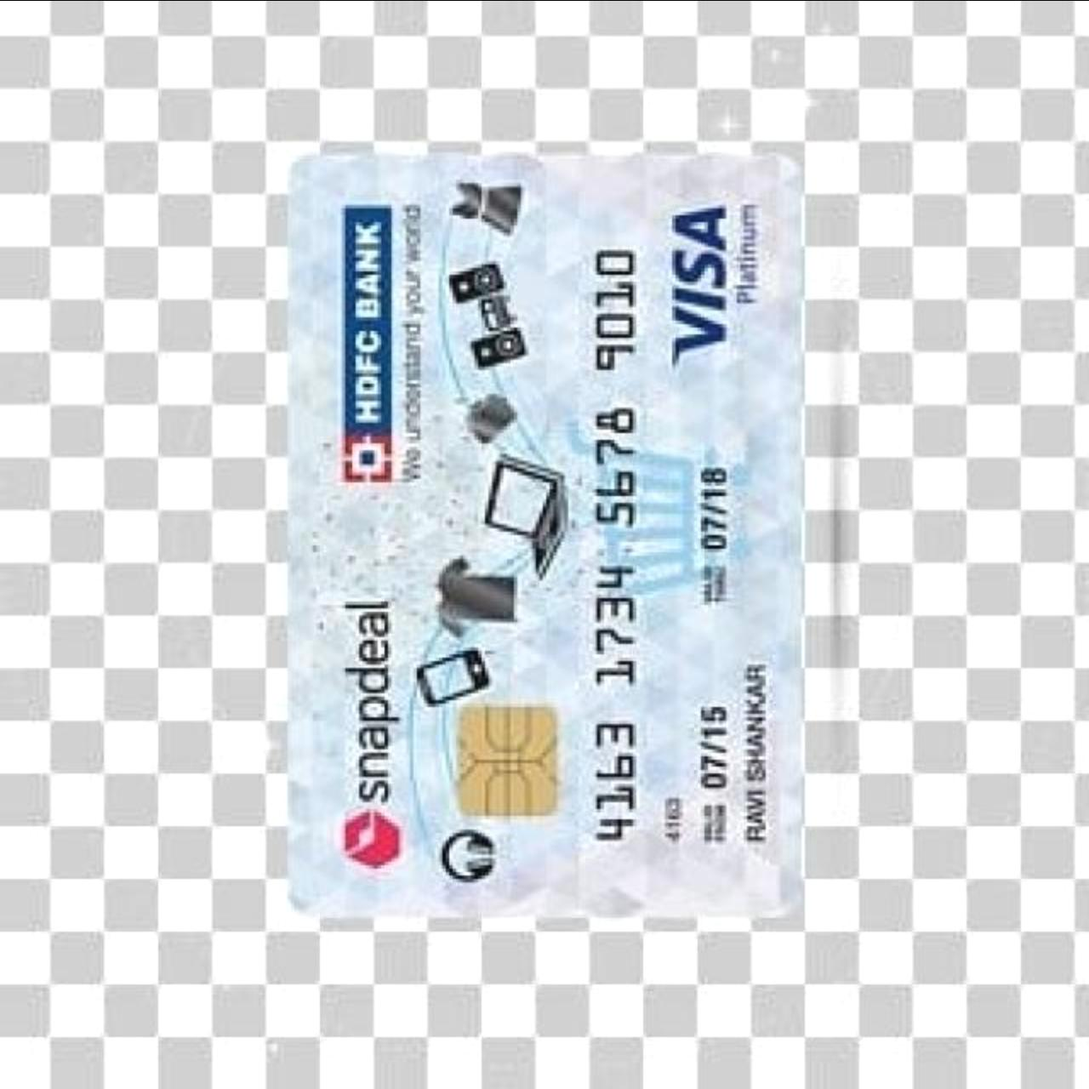credit_card: (282, 151, 794, 931)
